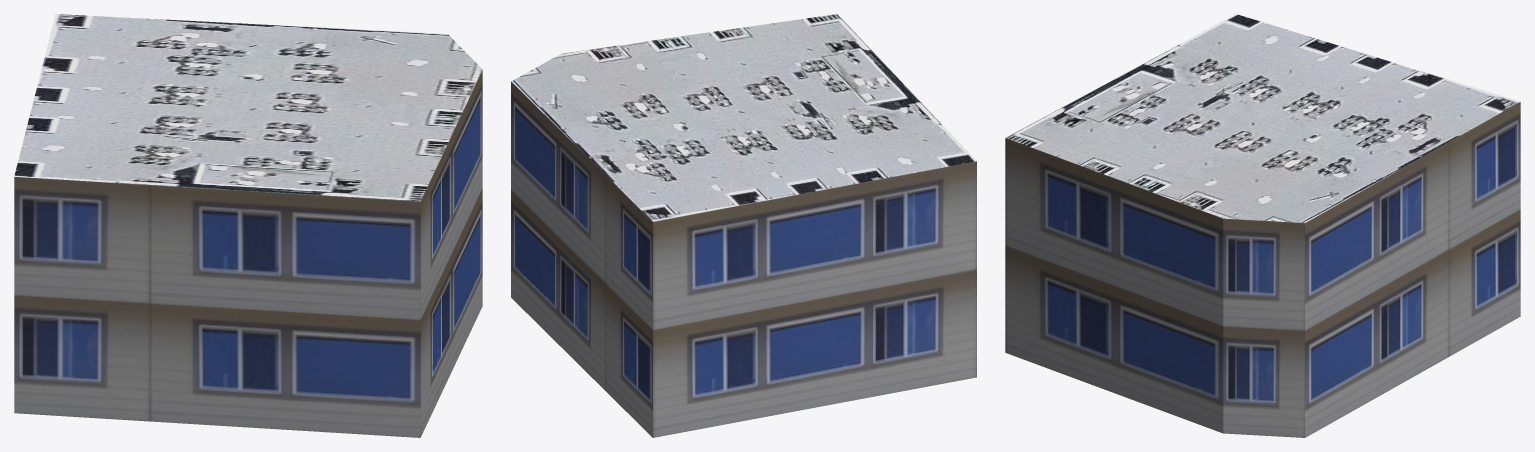
Rendered from ResTex__1405.fbx.
The picture shows the model from 3 angles, left to right: view 1: azimuth 30°, elevation 25°; view 2: azimuth 150°, elevation 25°; view 3: azimuth 270°, elevation 25°; orthographic projection. The views are drawn at different scales.
Visible parts, largest first — view 1: CityEngineMaterial_23_m, CityEngineMaterial_m; view 2: CityEngineMaterial_23_m, CityEngineMaterial_m; view 3: CityEngineMaterial_23_m, CityEngineMaterial_m.
Part boxes in pixels (bbox=[...]): CityEngineMaterial_23_m: bbox=[14, 70, 482, 437]; CityEngineMaterial_m: bbox=[14, 14, 482, 201]; CityEngineMaterial_23_m: bbox=[511, 81, 976, 437]; CityEngineMaterial_m: bbox=[511, 14, 976, 221]; CityEngineMaterial_23_m: bbox=[1005, 102, 1520, 437]; CityEngineMaterial_m: bbox=[1006, 14, 1519, 222].
Bounding box in the file's own units: 12.52 × 6 × 13.03.
Materials: 2 (2 with a texture image).
